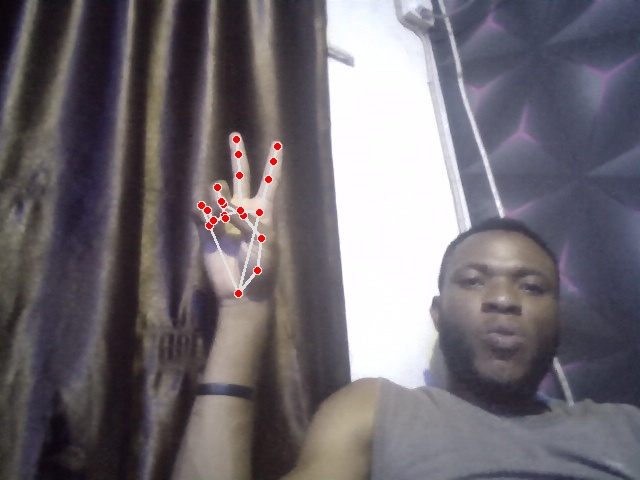peace: (192, 129, 285, 301)
